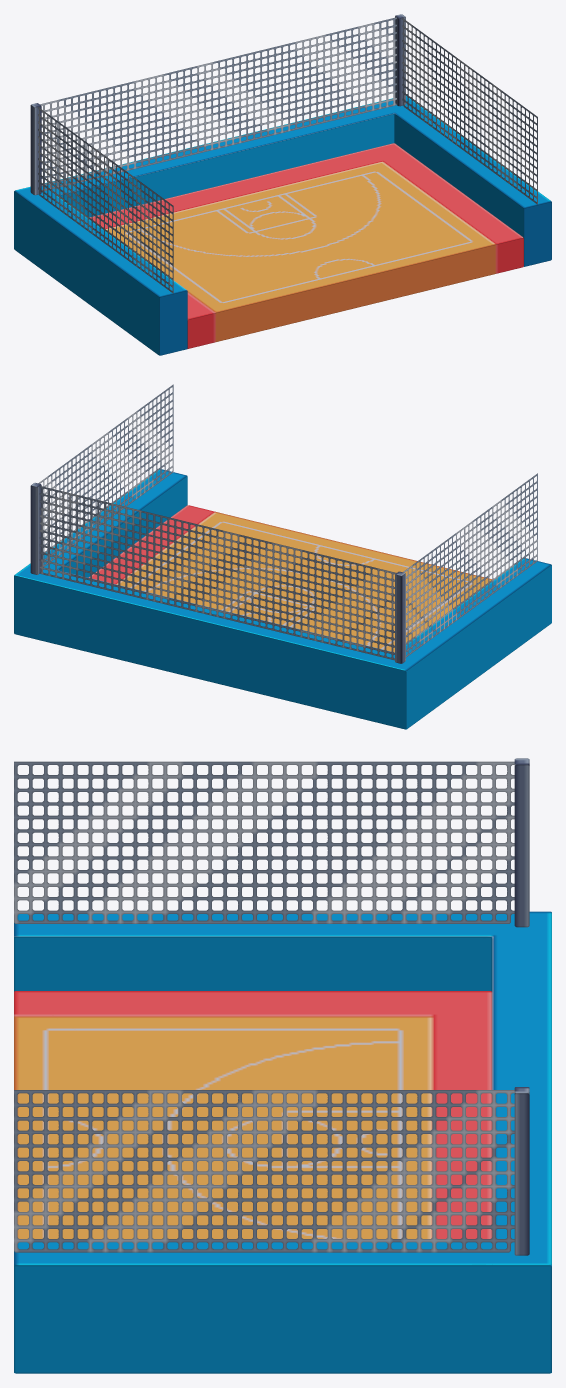
Rendered from Escenario_Basketball_v1.fbx.
The picture shows the model from 3 angles, top to bottom: view 1: azimuth 30°, elevation 25°; view 2: azimuth 150°, elevation 25°; view 3: azimuth 270°, elevation 25°; orthographic projection. The views are drawn at different scales.
Parts seen in each view (by area): view 1: cuboid, cuboid_1, plane, plane_2, plane_1, cuboid_3, cuboid_2; view 2: cuboid_1, cuboid, plane, plane_2, plane_1, cuboid_2, cuboid_3; view 3: cuboid_1, cuboid, plane_2, plane_1, cuboid_3, cuboid_2.
Boxes of the visible parts, bbox=[...] form: cuboid: bbox=[89, 143, 523, 348]; cuboid_1: bbox=[14, 96, 551, 355]; plane: bbox=[40, 17, 396, 190]; plane_2: bbox=[38, 107, 173, 293]; plane_1: bbox=[402, 18, 537, 204]; cuboid_3: bbox=[30, 103, 41, 195]; cuboid_2: bbox=[395, 14, 405, 106]; cuboid_1: bbox=[14, 469, 551, 729]; cuboid: bbox=[88, 505, 491, 652]; plane: bbox=[39, 486, 396, 660]; plane_2: bbox=[403, 473, 537, 657]; plane_1: bbox=[38, 384, 173, 566]; cuboid_2: bbox=[30, 482, 41, 574]; cuboid_3: bbox=[395, 571, 405, 663]; cuboid_1: bbox=[14, 911, 551, 1373]; cuboid: bbox=[14, 991, 492, 1238]; plane_2: bbox=[14, 761, 515, 923]; plane_1: bbox=[14, 1090, 515, 1252]; cuboid_3: bbox=[514, 758, 529, 927]; cuboid_2: bbox=[514, 1087, 529, 1255].
Bounding box in the file's own units: 1400 × 500 × 900.
1 material, 1 textured.
